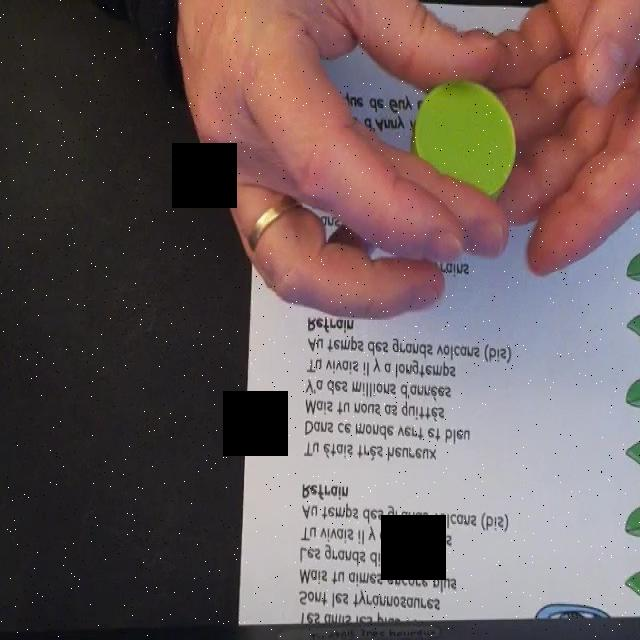hexagon: (412, 79, 517, 211)
